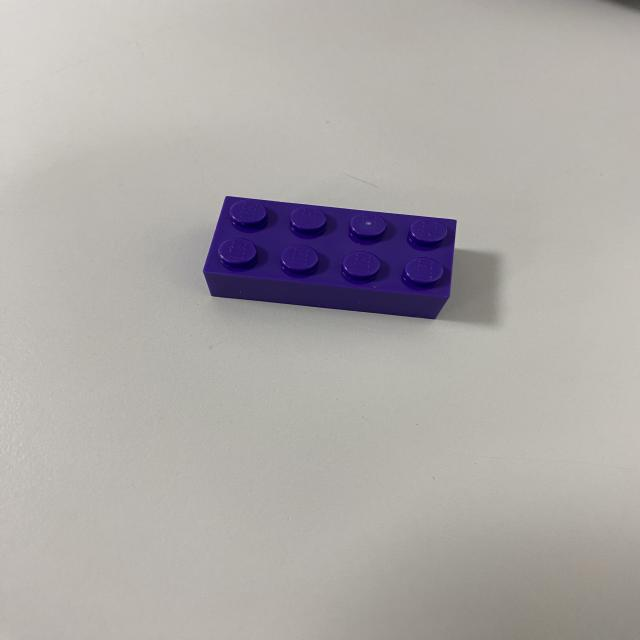C4x2x1: (203, 194, 460, 293), (203, 274, 449, 317)
